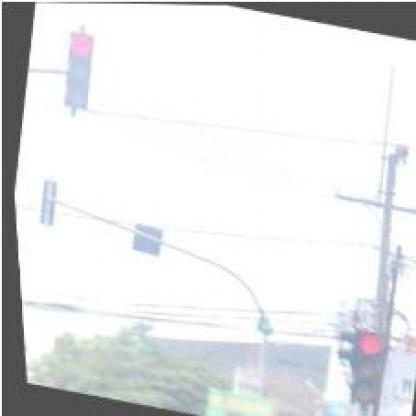red: (337, 323, 385, 406), (52, 29, 96, 110)
